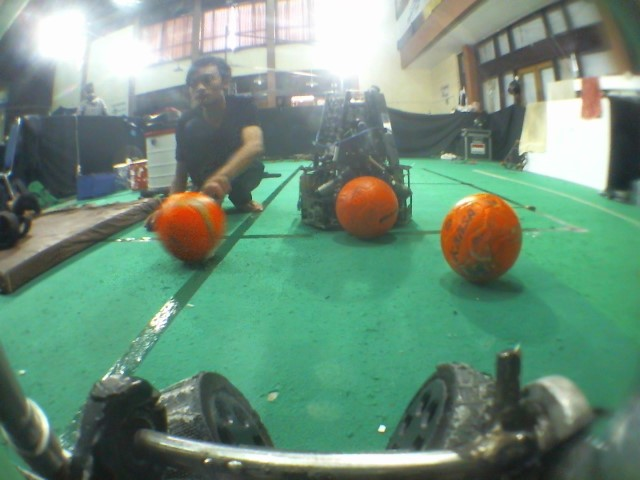ball: (434, 189, 529, 292), (153, 190, 230, 269), (329, 172, 405, 242)
